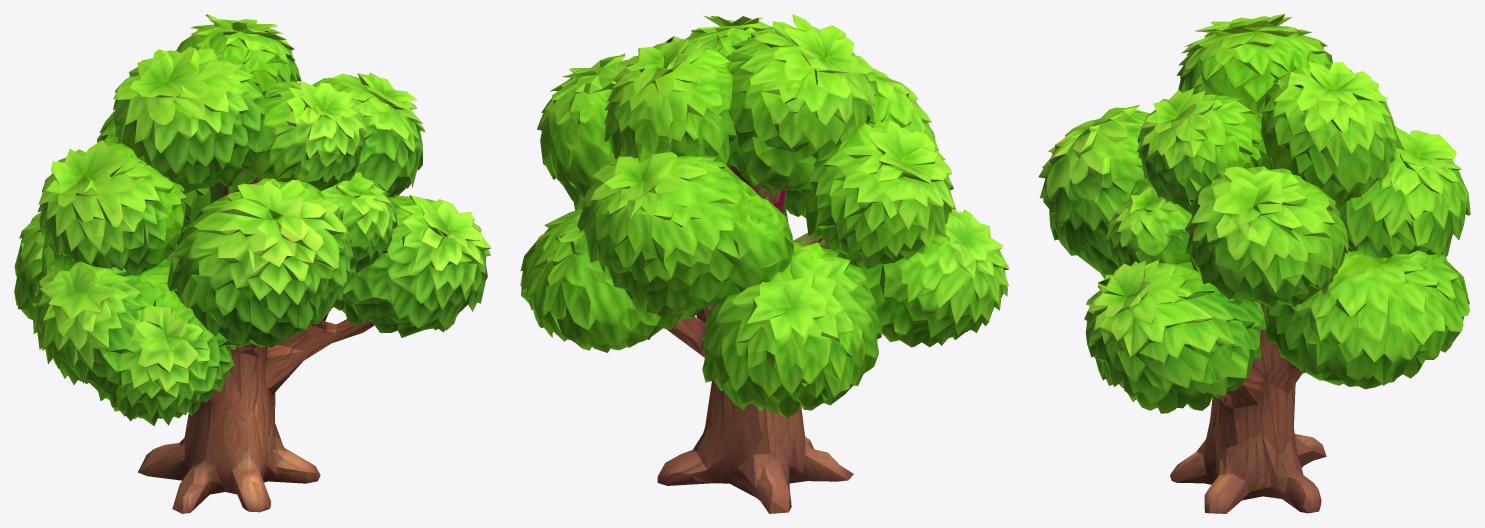
Rendered from prop-oak.glb.
The picture shows the model from 3 angles, left to right: view 1: azimuth 30°, elevation 25°; view 2: azimuth 150°, elevation 25°; view 3: azimuth 270°, elevation 25°; orthographic projection. The views are drawn at different scales.
Size of the model in its own units: 1.9 by 1.9 by 1.67.
Materials: 1 (1 with a texture image).
